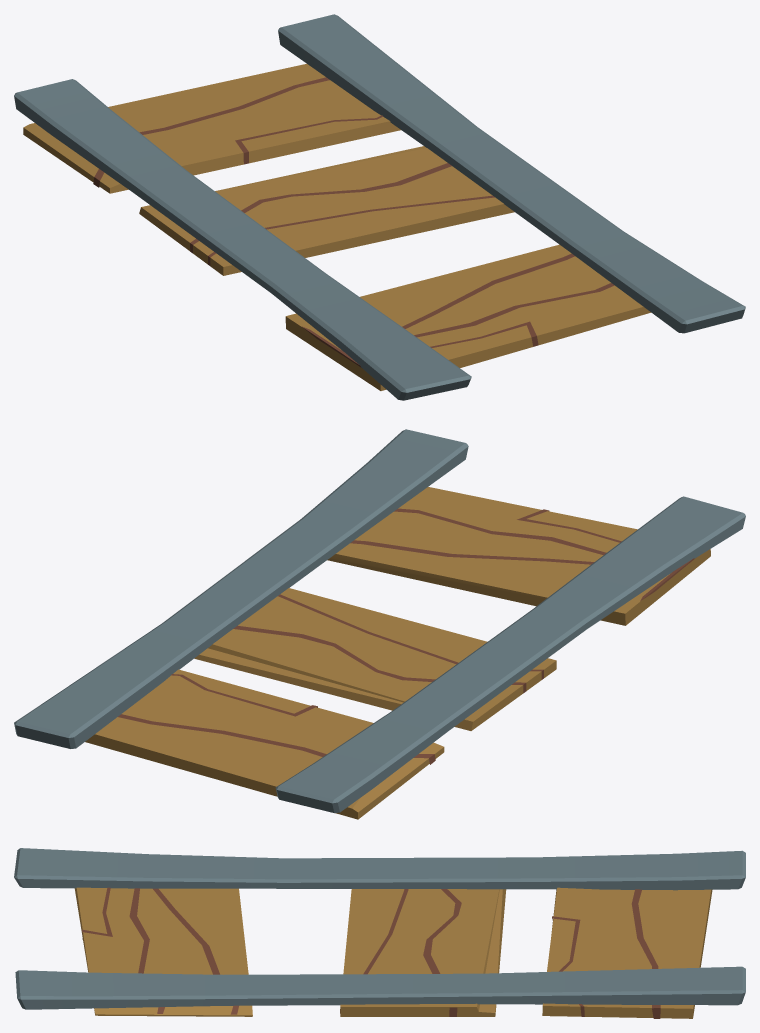
The model's file is DE_Railway_03.fbx.
3 views of the same model, one above another, from view 1: azimuth 30°, elevation 25°; view 2: azimuth 150°, elevation 25°; view 3: azimuth 270°, elevation 25° (orthographic). The views are drawn at different scales.
Parts seen in each view (by area): view 1: DE_Railway_03; view 2: DE_Railway_03; view 3: DE_Railway_03.
Part boxes in pixels (x1,y1,x2,y2): DE_Railway_03: (14,14,745,400); DE_Railway_03: (14,429,745,819); DE_Railway_03: (14,848,745,1018).
Size of the model in its own units: 198 by 16.37 by 402.
